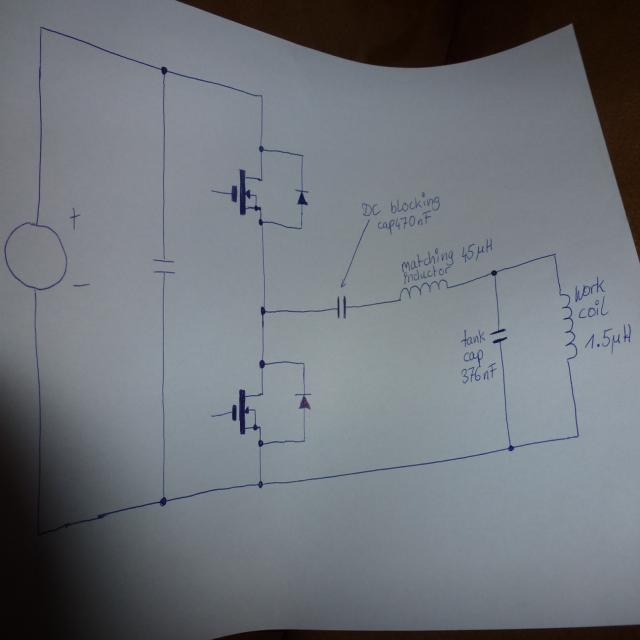capacitor: (150, 254, 176, 278), (488, 325, 508, 345), (334, 293, 348, 320)
diode: (293, 389, 313, 414), (292, 186, 310, 208)
inductor: (558, 291, 578, 360), (397, 277, 449, 302)
junction: (572, 427, 583, 441), (158, 494, 168, 507), (258, 303, 267, 317), (257, 356, 266, 369), (159, 64, 168, 76), (489, 267, 498, 278), (506, 442, 515, 452), (256, 478, 264, 489), (550, 250, 558, 260), (256, 143, 264, 153), (256, 438, 264, 448), (37, 21, 44, 32), (35, 527, 42, 538), (257, 217, 264, 226), (300, 358, 306, 368), (300, 436, 307, 444), (258, 91, 264, 99), (297, 223, 303, 231), (298, 152, 304, 160)
source: (4, 216, 68, 298)
terminal: (208, 187, 215, 194), (207, 412, 215, 418)
text: (376, 208, 432, 236), (400, 245, 454, 272), (584, 324, 632, 352), (390, 190, 440, 213), (403, 263, 451, 284), (573, 276, 604, 306), (461, 236, 494, 264), (461, 361, 497, 382), (577, 293, 606, 318), (461, 328, 485, 347), (462, 348, 484, 365), (359, 201, 382, 217)
transistor: (229, 165, 265, 217), (230, 387, 266, 435)
